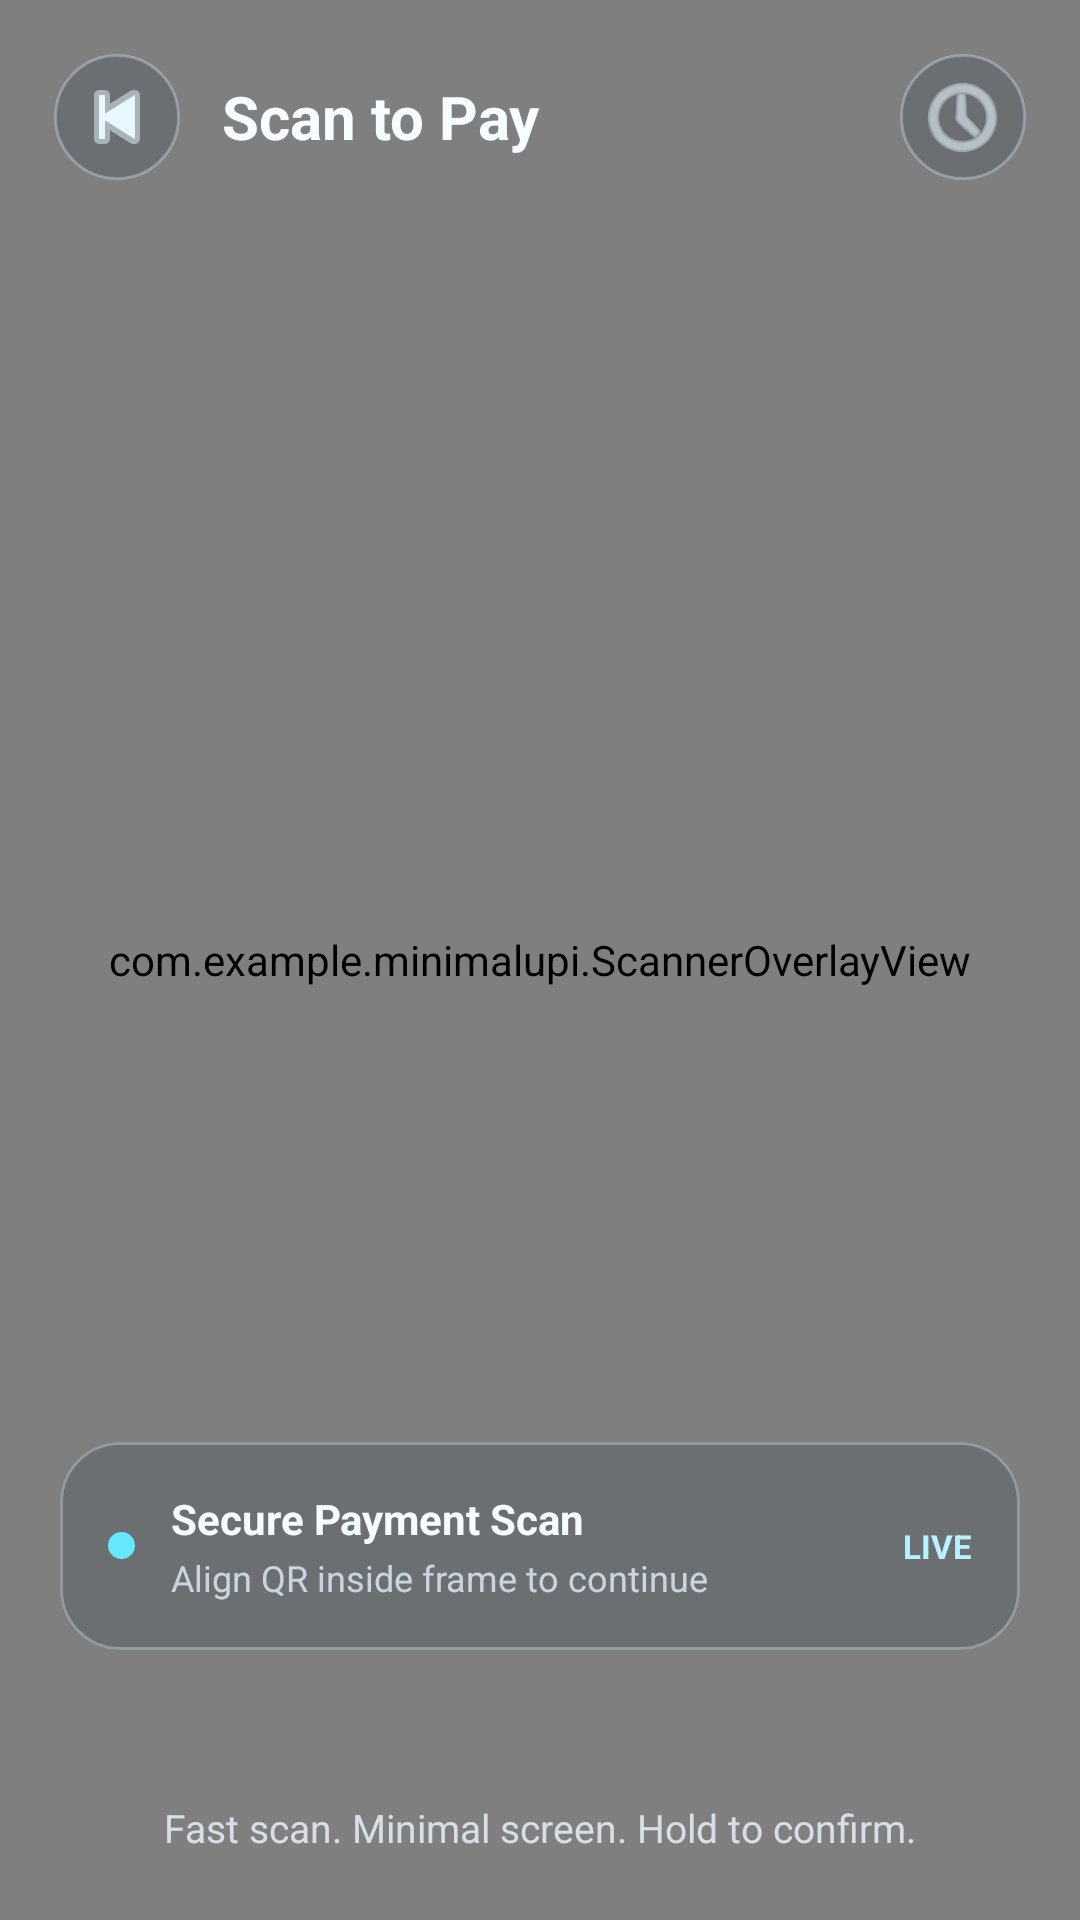

Screen size 1080 x 1920. Icon name, then its center in pixels as (x=x, y=y):
Back: (x=117, y=117)
History: (x=963, y=117)
